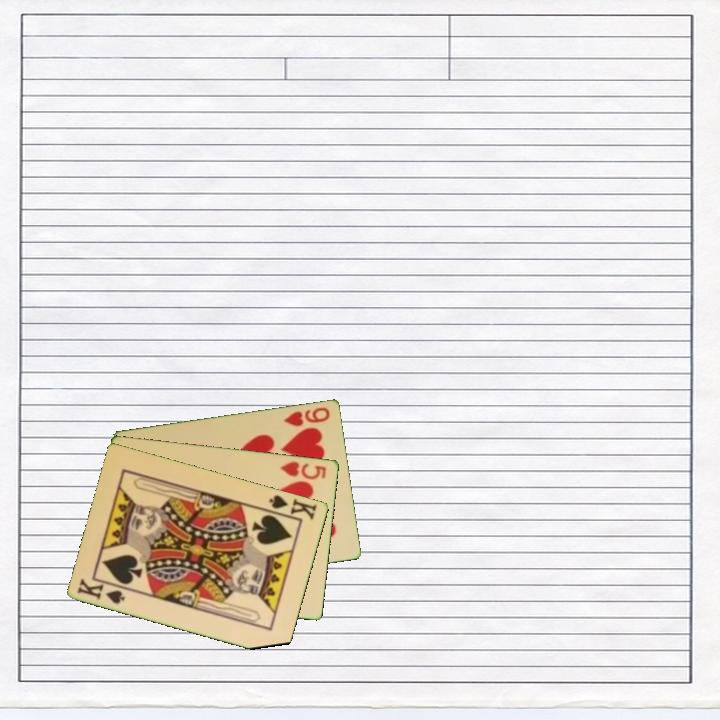5h: (277, 458, 329, 482)
9h: (280, 403, 333, 429)
Ks: (266, 491, 320, 523), (74, 575, 128, 607)
